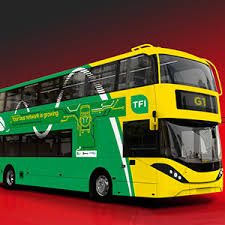bus: (1, 44, 223, 203)
